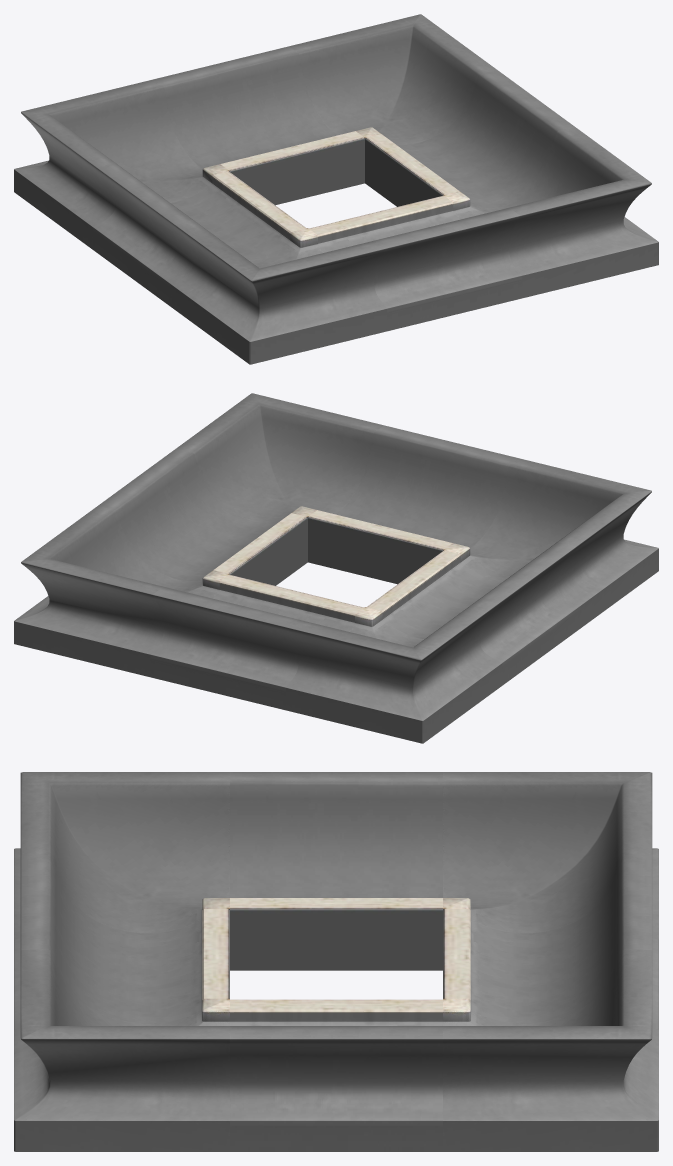
The model's file is website2-grey.FBX.
3 views of the same model, one above another, from view 1: azimuth 30°, elevation 25°; view 2: azimuth 150°, elevation 25°; view 3: azimuth 270°, elevation 25° (orthographic). The views are drawn at different scales.
Visible parts, largest first — view 1: website2grey_Corner_Bottom_L, website2grey_Top, website2grey_Corner_Bottom_R, website2grey_Corner_Top_L, website2grey_Corner_Top_R, website2grey_Bottom, website2grey_R, website2grey_L; view 2: website2grey_Corner_Top_L, website2grey_Bottom, website2grey_Corner_Top_R, website2grey_Corner_Bottom_L, website2grey_Corner_Bottom_R, website2grey_Top, website2grey_R, website2grey_L; view 3: website2grey_L, website2grey_Corner_Bottom_R, website2grey_Corner_Top_R, website2grey_R, website2grey_Corner_Top_L, website2grey_Corner_Bottom_L, website2grey_Top, website2grey_Bottom.
Boxes of the visible parts, <box> form: website2grey_Corner_Bottom_L: <box>170,220,386,364</box>; website2grey_Top: <box>154,46,364,205</box>; website2grey_Corner_Bottom_R: <box>443,127,658,298</box>; website2grey_Corner_Top_L: <box>14,79,229,249</box>; website2grey_Corner_Top_R: <box>289,14,496,144</box>; website2grey_Bottom: <box>309,195,522,331</box>; website2grey_R: <box>365,70,575,206</box>; website2grey_L: <box>92,163,306,306</box>; website2grey_Corner_Top_L: <box>286,599,502,743</box>; website2grey_Bottom: <box>308,425,518,584</box>; website2grey_Corner_Top_R: <box>14,506,229,677</box>; website2grey_Corner_Bottom_L: <box>443,458,658,628</box>; website2grey_Corner_Bottom_R: <box>176,393,383,523</box>; website2grey_Top: <box>150,574,363,710</box>; website2grey_R: <box>97,449,307,585</box>; website2grey_L: <box>366,542,580,685</box>; website2grey_L: <box>230,772,442,970</box>; website2grey_Corner_Bottom_R: <box>14,949,229,1151</box>; website2grey_Corner_Top_R: <box>443,949,658,1151</box>; website2grey_R: <box>230,999,442,1151</box>; website2grey_Corner_Top_L: <box>443,772,658,939</box>; website2grey_Corner_Bottom_L: <box>14,772,229,939</box>; website2grey_Top: <box>443,859,658,1029</box>; website2grey_Bottom: <box>14,859,229,1029</box>.
Bounding box in the file's own units: 394 × 394 × 75.02.
Materials: 2 (2 with a texture image).
